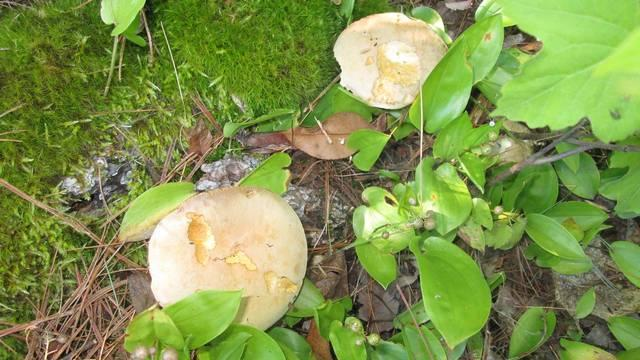Edible Mushroom: (146, 184, 308, 331), (332, 11, 449, 110)
